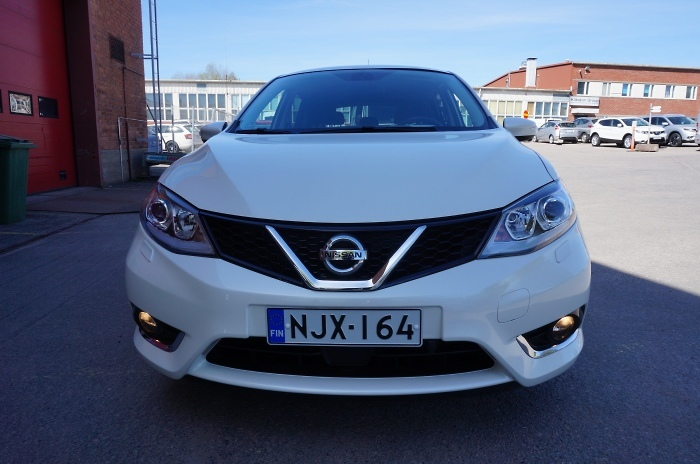license: (263, 306, 419, 346)
